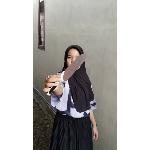Pisau: (44, 52, 92, 98)
